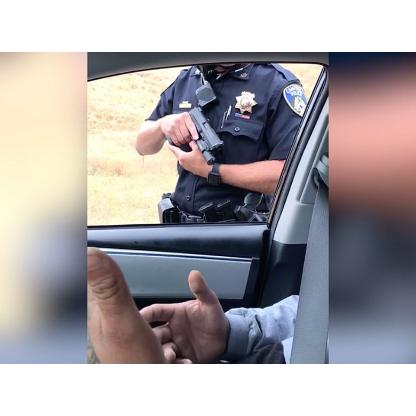gun: (165, 107, 223, 164)
